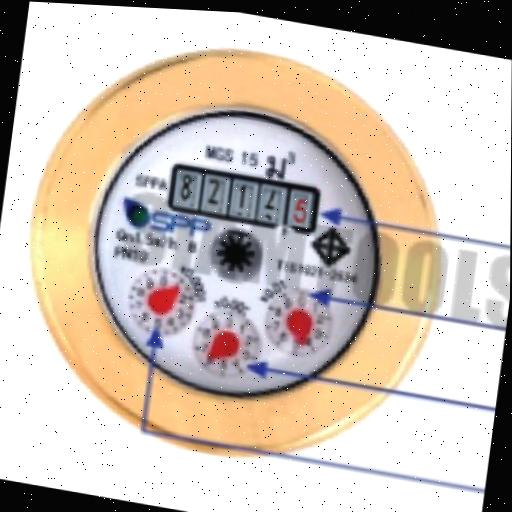1: (232, 183, 253, 218)
2: (204, 179, 224, 215), (262, 189, 281, 224)
5: (292, 194, 311, 227)
8: (176, 174, 197, 209)
border_water_meter_number: (166, 161, 322, 236)
